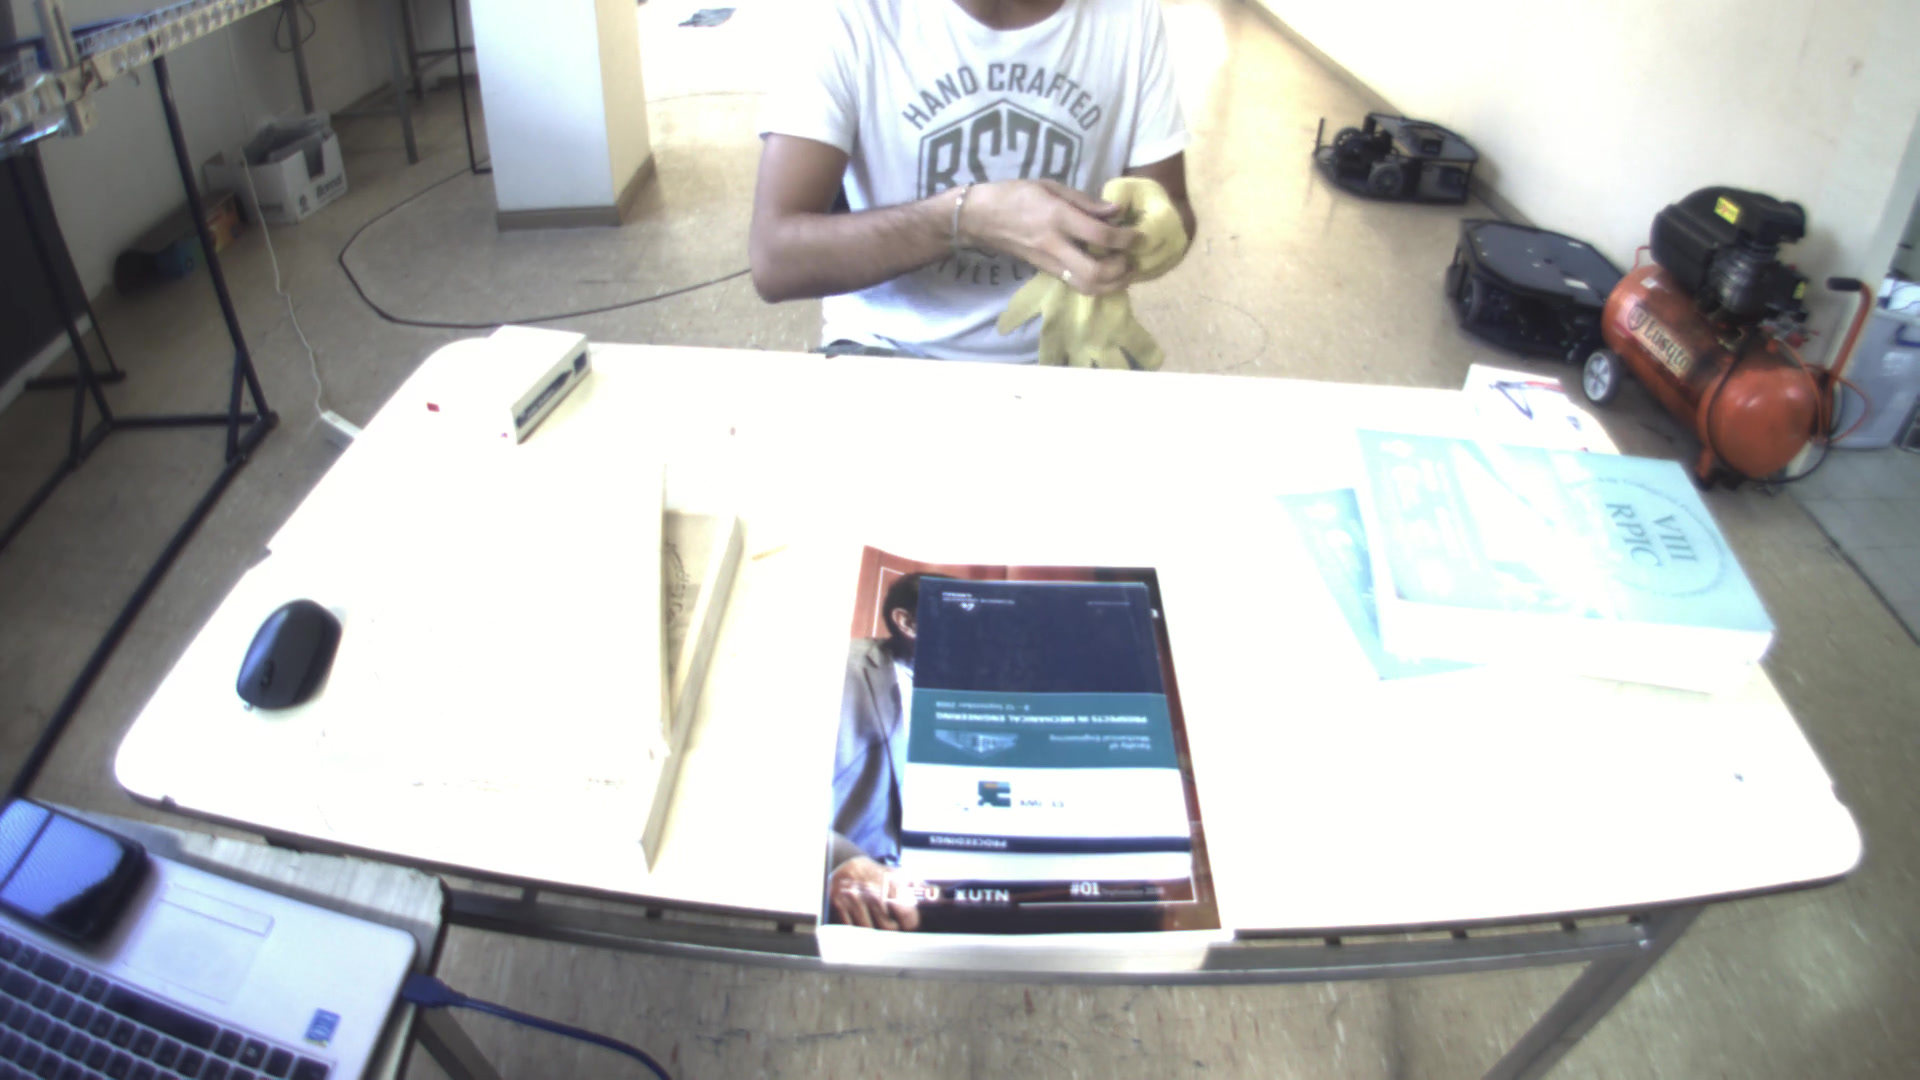hand: (955, 169, 1133, 293), (1098, 167, 1197, 276)
